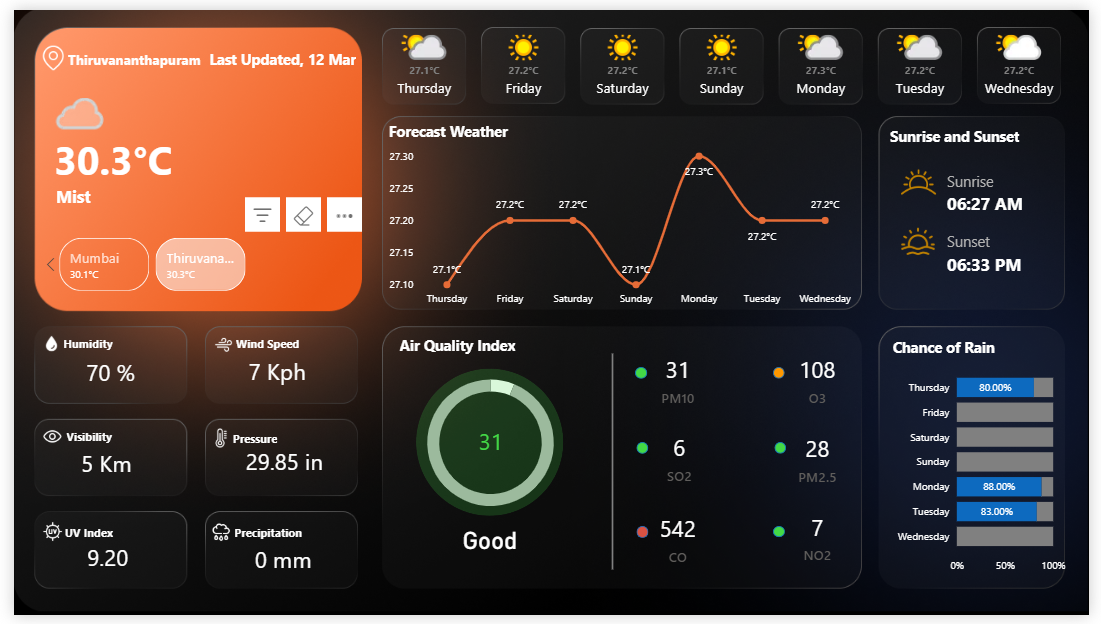

What the dashboard file says about the page in this screenshot:
{"tool":"powerbi","page":{"name":"Page 1","canvas":[1280,720],"ordinal":0},"visuals":[{"type":"advancedSlicerVisual","fields":{"Values":["Locations.location.name"]},"box":[28.3,266.7,388.3,73.3],"z":0},{"type":"shape","box":[48.3,131.7,233.3,90],"z":1000},{"type":"shape","box":[50,193.3,233.3,56.7],"z":2000},{"type":"shape","box":[64,30,160.7,56],"z":3000},{"type":"image","box":[32.7,41.3,29.3,31.3],"z":4000},{"type":"shape","box":[207.3,30,200,56],"z":5000},{"type":"cardVisual","fields":{"Data":["Min(Current.current.condition.icon)"]},"box":[8.3,86.7,148.3,111.7],"z":6000},{"type":"image","box":[31.1,495,30.7,25.7],"z":7000},{"type":"shape","box":[62.3,489.2,95.4,36.9],"z":8000},{"type":"image","box":[31.1,388.1,28.3,19.5],"z":9000},{"type":"shape","box":[59.2,379.2,95.4,36.9],"z":10000},{"type":"image","box":[238.2,388.2,23.9,21.8],"z":11000},{"type":"shape","box":[263.9,379.3,111.4,36.8],"z":12000},{"type":"image","box":[234.6,498.6,25.4,22.9],"z":13000},{"type":"image","box":[31.5,609.2,28.5,23.8],"z":14000},{"type":"image","box":[234.7,609.3,25.3,25.3],"z":15000},{"type":"shape","box":[60,603.1,95.4,36.9],"z":16000},{"type":"shape","box":[262,604,107.3,36.7],"z":17000},{"type":"shape","box":[260,491.4,95.7,37.1],"z":18000},{"type":"card","fields":{"Values":["_Measures.Humidity"]},"box":[63.8,410,101.2,43.8],"z":19000},{"type":"card","fields":{"Values":["_Measures.Wind_Speed"]},"box":[260,407.5,105,47.5],"z":20000},{"type":"card","fields":{"Values":["_Measures.Pressure"]},"box":[255,510,132.5,55],"z":21000},{"type":"card","fields":{"Values":["Sum(Current.current.uv)"]},"box":[55,627.5,111.9,51.2],"z":22000},{"type":"card","fields":{"Values":["_Measures.Precipitation"]},"box":[268.8,631.2,101.2,45],"z":23000},{"type":"card","fields":{"Values":["_Measures.Visibilty"]},"box":[35,508.3,148.3,61.7],"z":24000},{"type":"advancedSlicerVisual","fields":{"Values":["Forecast_Day.Day_Name"]},"box":[428.3,23.3,828.3,98.3],"z":25000},{"type":"lineChart","title":"Forecast Weather","fields":{"Y":["Sum(Forecast_Day.forecast.forecastday.day.avgtemp_c)"],"Category":["Forecast_Day.Day_Name"]},"box":[441.2,131.2,566.2,228.8],"z":26000},{"type":"shape","box":[1042.9,131.4,181.4,37.1],"z":27000},{"type":"shape","box":[1110,202.9,134.3,52.9],"z":28000},{"type":"shape","box":[1110,275.7,134.3,54.3],"z":29000},{"type":"shape","box":[1110,177.1,134.3,52.9],"z":30000},{"type":"shape","box":[1110,248.6,134.3,54.3],"z":31000},{"type":"image","box":[1042.9,255.7,67.1,40],"z":32000},{"type":"image","box":[1037.1,177.1,78.6,55.7],"z":33000},{"type":"hundredPercentStackedBarChart","title":"Chance of Rain","fields":{"Category":["Forecast_Day.Day_Name"],"Y":["Sum(Forecast_Day.forecast.forecastday.day.daily_chance_of_rain)","_Measures.Left_value_Rain"]},"box":[1041.4,388.6,215.7,290],"z":34000},{"type":"shape","box":[458.3,380,181.7,36.7],"z":35000},{"type":"card","fields":{"Values":["Sum(Current.current.air_quality.pm2_5)"]},"box":[903.3,492.4,105.2,81.4],"z":36000},{"type":"card","fields":{"Values":["Sum(Current.current.air_quality.co)"]},"box":[738.3,588.3,105,81.7],"z":37000},{"type":"card","fields":{"Values":["Sum(Current.current.air_quality.so2)"]},"box":[740,491.7,105,81.7],"z":38000},{"type":"card","fields":{"Values":["Sum(Current.current.air_quality.o3)"]},"box":[903.8,397.6,105.2,81.9],"z":39000},{"type":"card","fields":{"Values":["Sum(Current.current.air_quality.pm10)"]},"box":[738.3,398.3,105,81.7],"z":40000},{"type":"card","fields":{"Values":["Sum(Current.current.air_quality.no2)"]},"box":[904.3,586.2,105.2,81.9],"z":41000},{"type":"shape","box":[740,425.4,14.6,14],"z":42000},{"type":"shape","box":[741,515,14,14],"z":43000},{"type":"shape","box":[904.3,424.8,13.8,13.8],"z":44000},{"type":"shape","box":[904.8,514.3,13.8,13.8],"z":45000},{"type":"shape","box":[904.3,613.8,14.3,13.3],"z":46000},{"type":"shape","box":[740.7,613.6,14.3,14.3],"z":47000},{"type":"shape","box":[677.1,408.6,71.4,257.1],"z":48000},{"type":"card","fields":{"Values":["Sum(Current.current.air_quality.pm10)"]},"box":[502.7,461.8,127.3,103.6],"z":49000},{"type":"donutChart","fields":{"Y":["Sum(Current.current.air_quality.pm10)","_Measures.Left_value_PM10"]},"box":[467.3,403.6,198.2,222.7],"z":50000},{"type":"shape","box":[479.1,427.3,175.5,175.5],"z":51000},{"type":"card","fields":{"Values":["_Measures.AQI_StatusAQI Status Text"]},"box":[431.7,598.3,268.3,61.7],"z":52000}]}

Visuals, with their boxes in screenshot pixels (x1, y1, x2, y2), scaled from the page's 1280x720 canvas onto the 1101x624 screenshot:
advancedSlicerVisual - Locations.location.name: bbox=[24, 231, 358, 295]
shape: bbox=[42, 114, 242, 192]
shape: bbox=[43, 168, 244, 217]
shape: bbox=[55, 26, 193, 75]
image: bbox=[28, 36, 53, 63]
shape: bbox=[178, 26, 350, 75]
cardVisual - Min(Current.current.condition.icon): bbox=[7, 75, 135, 172]
image: bbox=[27, 429, 53, 451]
shape: bbox=[54, 424, 136, 456]
image: bbox=[27, 336, 51, 353]
shape: bbox=[51, 329, 133, 361]
image: bbox=[205, 336, 225, 355]
shape: bbox=[227, 329, 323, 361]
image: bbox=[202, 432, 224, 452]
image: bbox=[27, 528, 52, 549]
image: bbox=[202, 528, 224, 550]
shape: bbox=[52, 523, 134, 555]
shape: bbox=[225, 523, 318, 555]
shape: bbox=[224, 426, 306, 458]
card - _Measures.Humidity: bbox=[55, 355, 142, 393]
card - _Measures.Wind_Speed: bbox=[224, 353, 314, 394]
card - _Measures.Pressure: bbox=[219, 442, 333, 490]
card - Sum(Current.current.uv): bbox=[47, 544, 144, 588]
card - _Measures.Precipitation: bbox=[231, 547, 318, 586]
card - _Measures.Visibilty: bbox=[30, 441, 158, 494]
advancedSlicerVisual - Forecast_Day.Day_Name: bbox=[368, 20, 1081, 105]
"Forecast Weather" lineChart: bbox=[380, 114, 867, 312]
shape: bbox=[897, 114, 1053, 146]
shape: bbox=[955, 176, 1070, 222]
shape: bbox=[955, 239, 1070, 286]
shape: bbox=[955, 153, 1070, 199]
shape: bbox=[955, 215, 1070, 263]
image: bbox=[897, 222, 955, 256]
image: bbox=[892, 153, 960, 202]
"Chance of Rain" hundredPercentStackedBarChart: bbox=[896, 337, 1081, 588]
shape: bbox=[394, 329, 550, 361]
card - Sum(Current.current.air_quality.pm2_5): bbox=[777, 427, 867, 497]
card - Sum(Current.current.air_quality.co): bbox=[635, 510, 725, 581]
card - Sum(Current.current.air_quality.so2): bbox=[637, 426, 727, 497]
card - Sum(Current.current.air_quality.o3): bbox=[777, 345, 868, 416]
card - Sum(Current.current.air_quality.pm10): bbox=[635, 345, 725, 416]
card - Sum(Current.current.air_quality.no2): bbox=[778, 508, 868, 579]
shape: bbox=[637, 369, 649, 381]
shape: bbox=[637, 446, 649, 458]
shape: bbox=[778, 368, 790, 380]
shape: bbox=[778, 446, 790, 458]
shape: bbox=[778, 532, 790, 543]
shape: bbox=[637, 532, 649, 544]
shape: bbox=[582, 354, 644, 577]
card - Sum(Current.current.air_quality.pm10): bbox=[432, 400, 542, 490]
donutChart - Sum(Current.current.air_quality.pm10) x _Measures.Left_value_PM10: bbox=[402, 350, 572, 543]
shape: bbox=[412, 370, 563, 522]
card - _Measures.AQI_StatusAQI Status Text: bbox=[371, 519, 602, 572]
